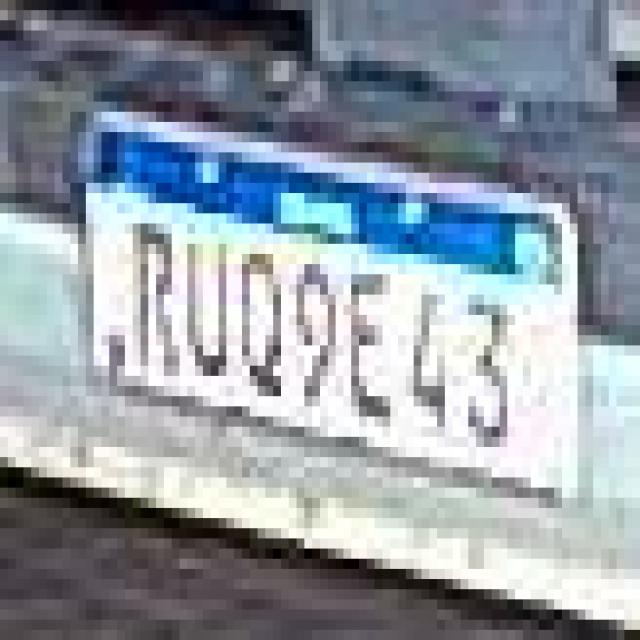3: (459, 290, 518, 452)
4: (402, 278, 458, 444)
9: (291, 260, 342, 414)
E: (342, 266, 401, 420)
Q: (231, 244, 287, 404)
R: (130, 214, 183, 380)
U: (178, 234, 234, 382)
